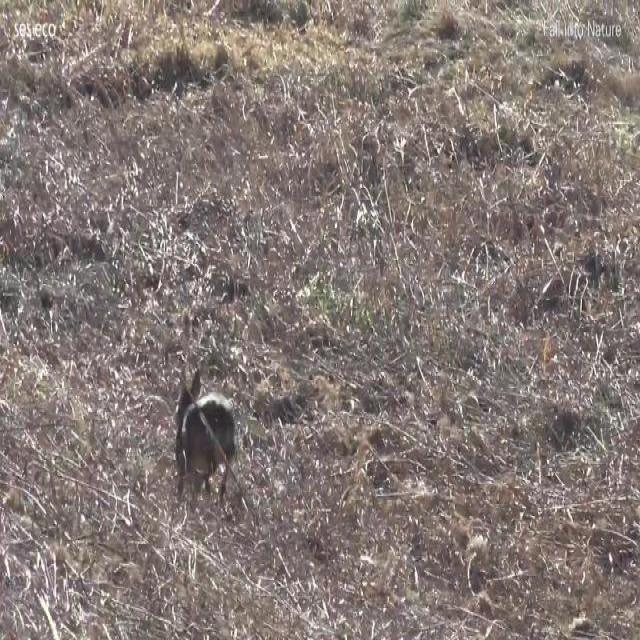deer: (175, 365, 236, 504)
